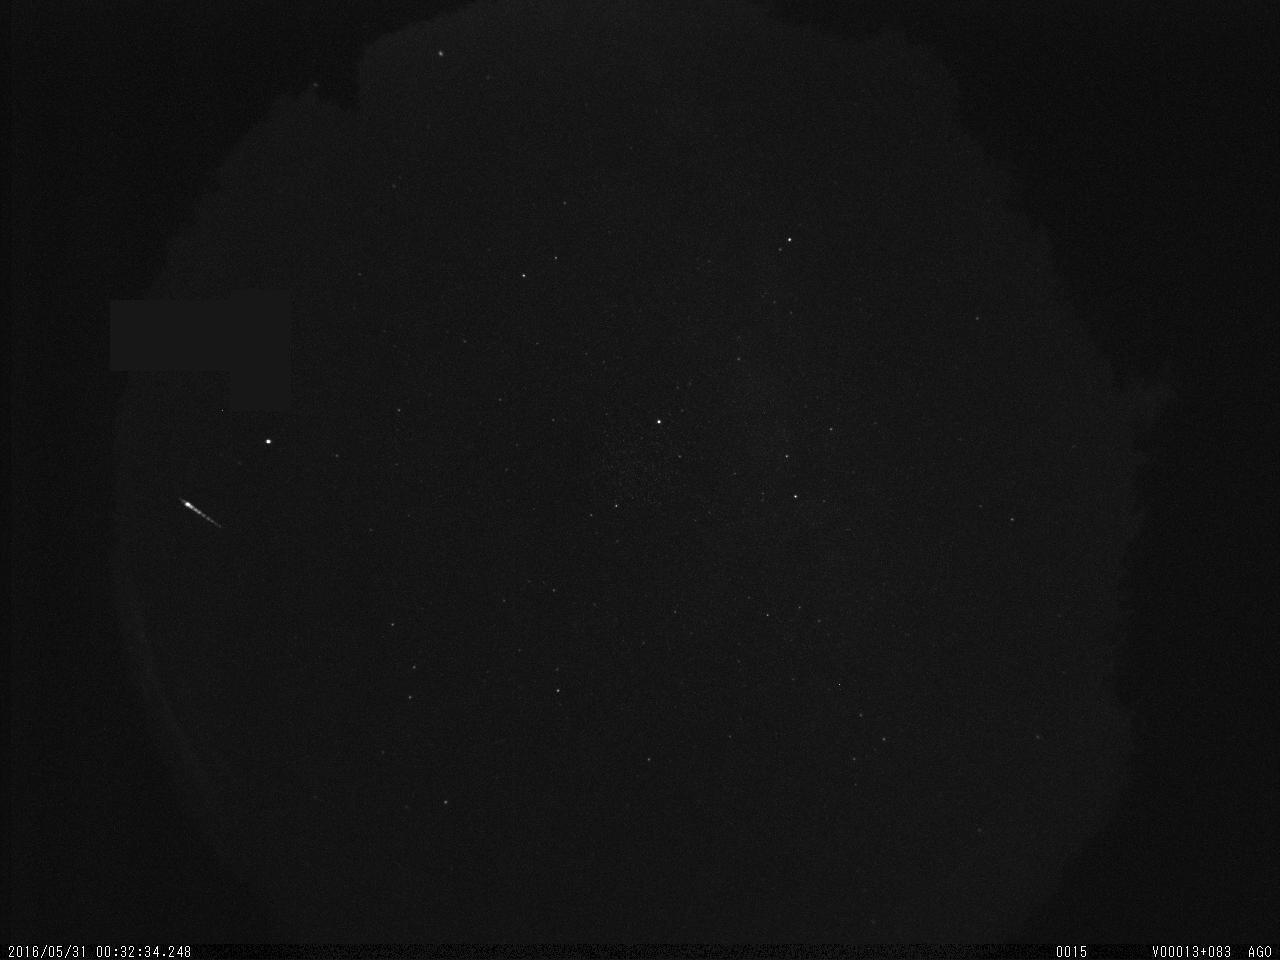Meteor: (176, 494, 223, 530)
